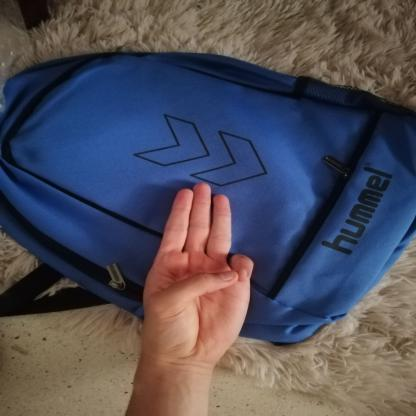THA: (127, 172, 262, 375)
